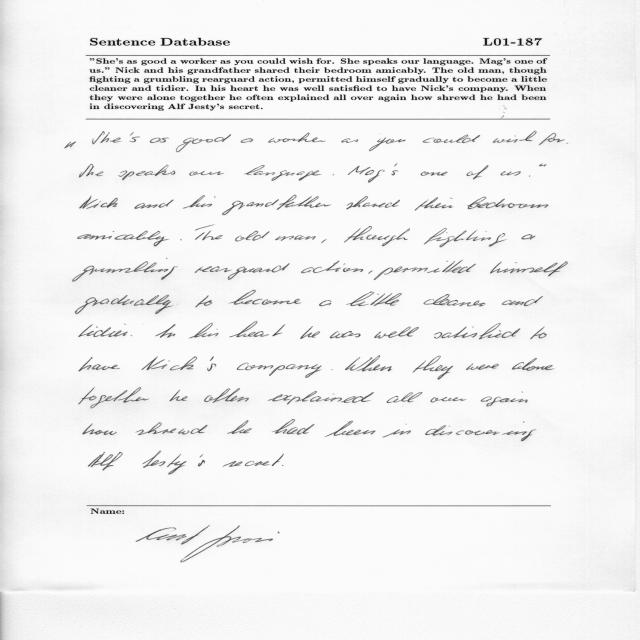word: (73, 258, 178, 282), (425, 422, 535, 442), (222, 195, 331, 215), (374, 260, 476, 280), (75, 295, 174, 314), (195, 263, 290, 280), (424, 228, 506, 247), (79, 387, 149, 409), (78, 231, 169, 247), (142, 451, 205, 474), (268, 391, 374, 404), (434, 323, 520, 339), (237, 362, 322, 378), (344, 226, 410, 246), (245, 165, 322, 181), (490, 262, 568, 277), (142, 356, 217, 371), (229, 290, 302, 305), (176, 135, 231, 153), (467, 197, 548, 209), (412, 356, 453, 379), (136, 423, 208, 436), (229, 321, 285, 337), (119, 165, 176, 180), (223, 453, 284, 467), (325, 421, 376, 437), (346, 292, 402, 306), (345, 356, 392, 372), (301, 261, 363, 273), (424, 294, 486, 306), (481, 392, 528, 407), (346, 196, 400, 209), (204, 388, 249, 403), (88, 452, 123, 471), (272, 420, 315, 435), (268, 132, 326, 143), (79, 324, 128, 337), (348, 166, 385, 183), (79, 357, 120, 371), (512, 358, 554, 371), (374, 327, 419, 339), (80, 195, 118, 209), (415, 197, 453, 211), (493, 131, 537, 143), (369, 138, 406, 152), (183, 195, 216, 209), (423, 135, 480, 143), (190, 323, 219, 338), (195, 225, 223, 240), (502, 296, 543, 306), (83, 423, 117, 435), (387, 392, 423, 403), (92, 131, 122, 144), (382, 424, 411, 437), (235, 231, 269, 242), (135, 200, 174, 209), (227, 420, 252, 434), (467, 165, 489, 180), (538, 133, 565, 145), (80, 164, 104, 177), (156, 324, 176, 338), (300, 326, 320, 339), (275, 235, 316, 241), (330, 331, 361, 338), (430, 397, 466, 403), (169, 390, 188, 401), (195, 296, 212, 308), (530, 327, 547, 339), (466, 364, 499, 370), (189, 171, 224, 176), (421, 171, 448, 176), (150, 137, 169, 143), (129, 132, 140, 142), (501, 171, 521, 176), (341, 138, 358, 143), (392, 164, 399, 176), (522, 234, 536, 240), (319, 300, 332, 306), (65, 142, 76, 149), (241, 138, 253, 143), (321, 239, 327, 243), (368, 270, 373, 274), (539, 164, 547, 166), (566, 143, 568, 144), (333, 174, 334, 176), (529, 175, 530, 177), (180, 239, 182, 240), (131, 335, 133, 336), (331, 369, 333, 370), (282, 465, 284, 466)
